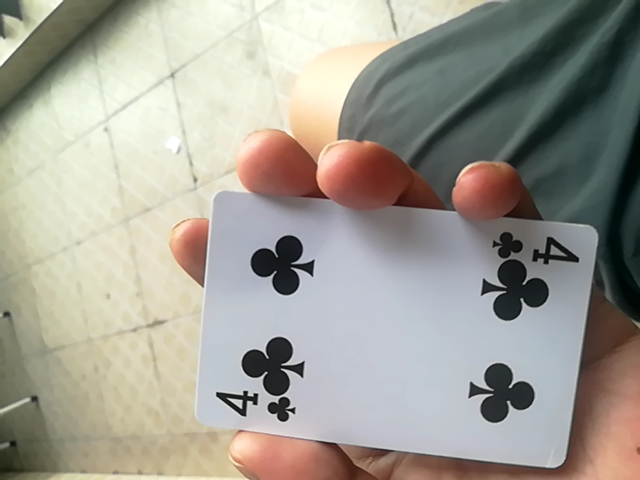mh 4: (185, 183, 595, 467)
